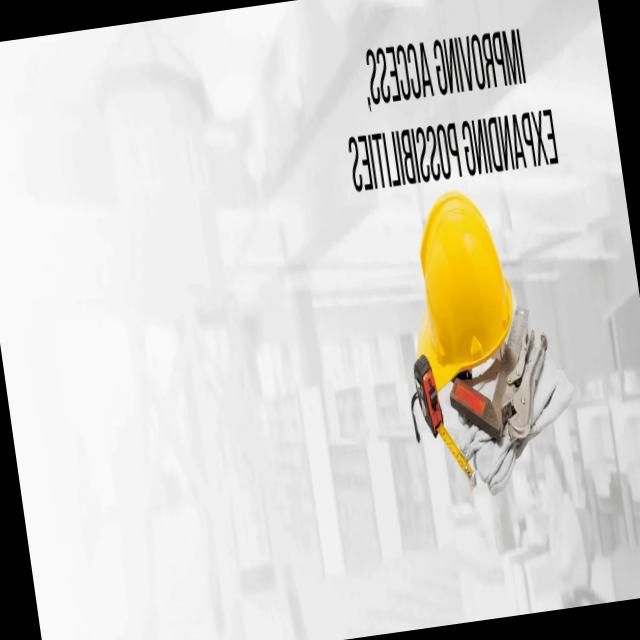helmet: (380, 132, 528, 410)
